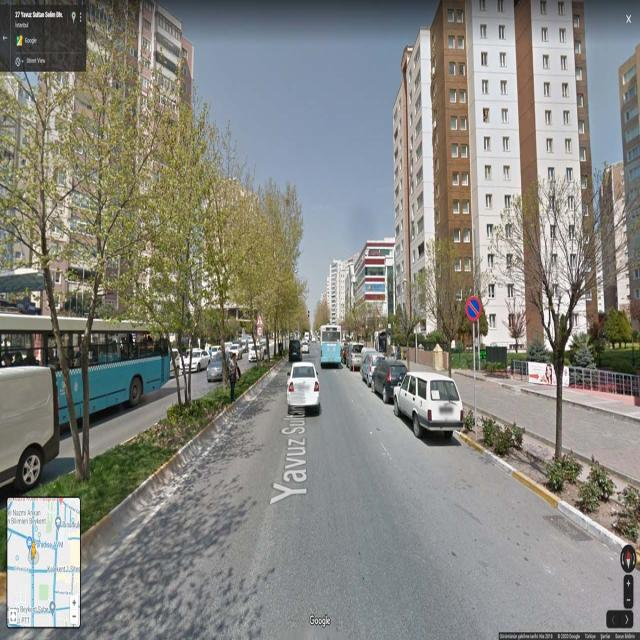parkyasak: (465, 294, 483, 323)
